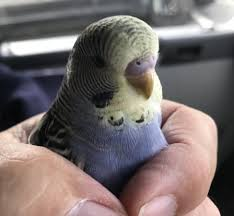budgie: (27, 15, 169, 149)
